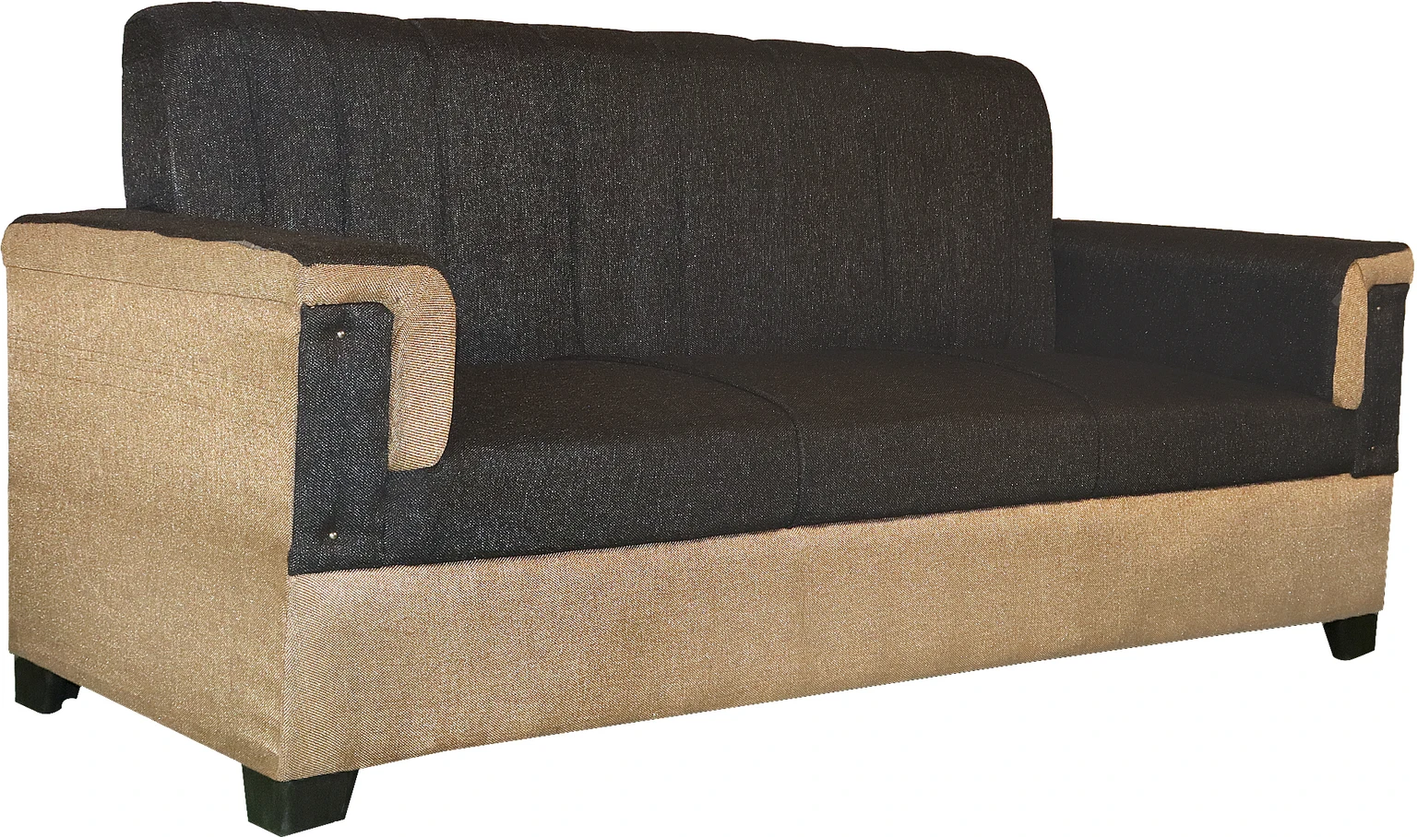3seatersofa: (3, 3, 1416, 833)
backrest: (125, 6, 1053, 360)
base: (283, 475, 1391, 776)
leftarmrest: (1053, 219, 1412, 475)
leg: (243, 768, 357, 834), (15, 658, 79, 713), (1324, 613, 1375, 659)
rightarmrest: (4, 209, 458, 777)
seat: (386, 349, 1351, 559)
